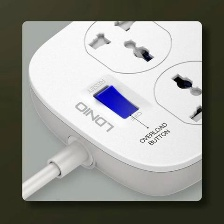three_eye_plug: (25, 21, 202, 200)
